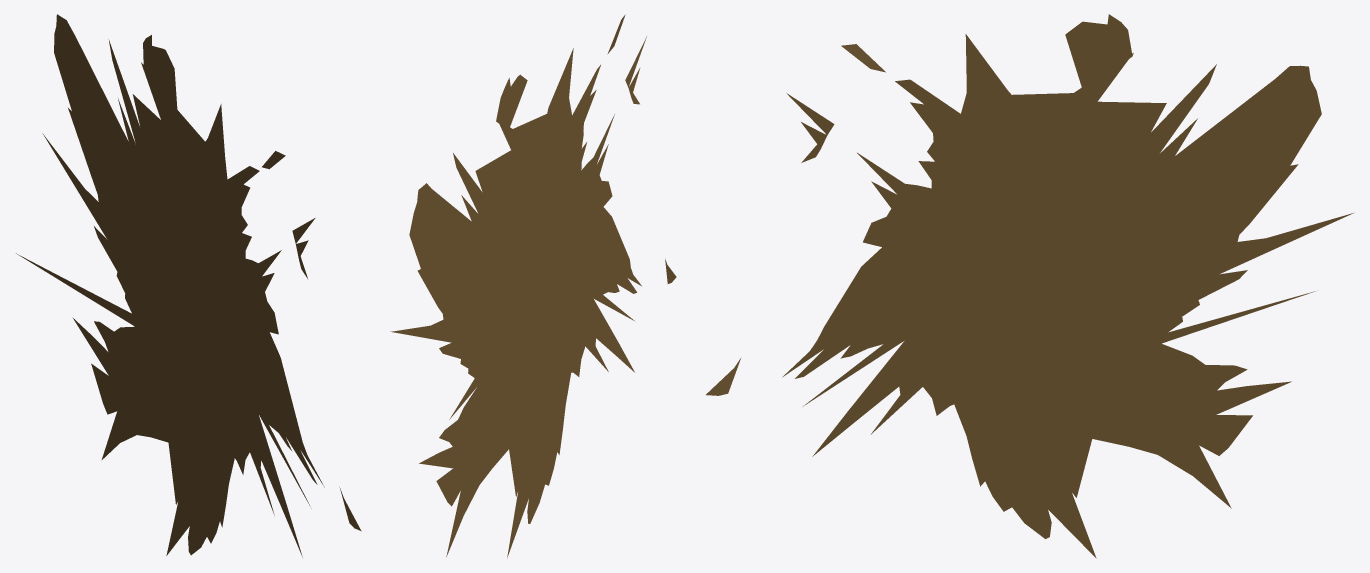
The model's file is Stain_Full.glb.
3 views of the same model, side by side, from view 1: azimuth 30°, elevation 25°; view 2: azimuth 150°, elevation 25°; view 3: azimuth 270°, elevation 25° (orthographic). The views are drawn at different scales.
Visible parts, largest first — view 1: Circle; view 2: Circle; view 3: Circle.
Boxes of the visible parts, <box> form: Circle: <box>16,14,361,557</box>; Circle: <box>390,14,676,558</box>; Circle: <box>706,14,1354,558</box>.
Bounding box in the file's own units: 0.4384 × 4.18 × 4.55.
